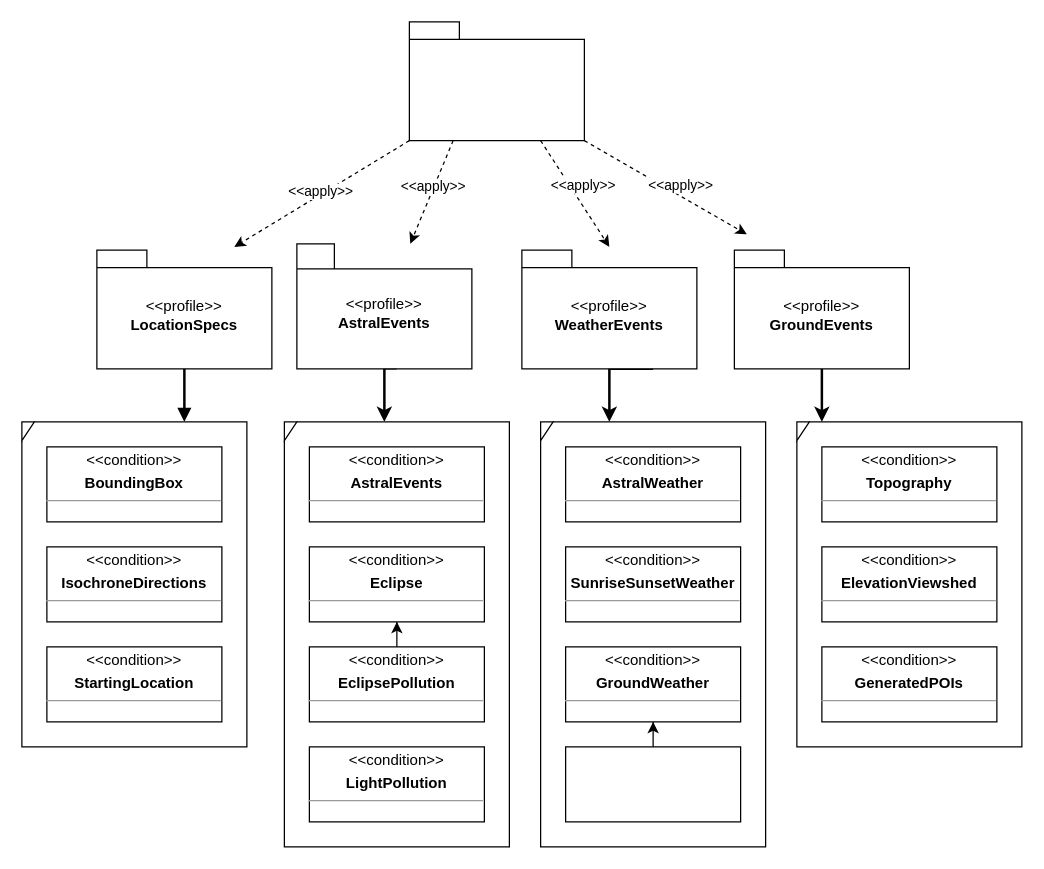
Image size: 1044x869. Some labels were removed from this diagram. The box of each missing label's shape, as (x1, y1, x2, y2) in pixels:
<<condition>> Weather: (564, 746, 741, 822)
DataFilter: (408, 21, 584, 141)
